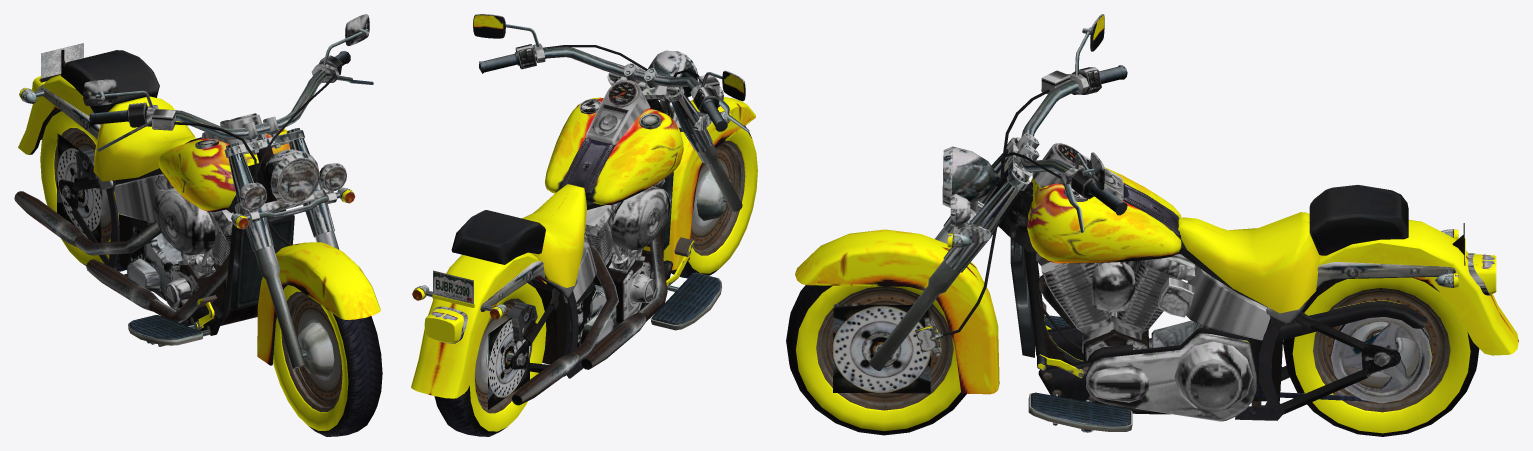
The picture shows the model from 3 angles, left to right: view 1: azimuth 30°, elevation 25°; view 2: azimuth 150°, elevation 25°; view 3: azimuth 270°, elevation 25°; orthographic projection. The views are drawn at different scales.
Size of the model in its own units: 236 by 245 by 475.
6 materials, 6 textured.
